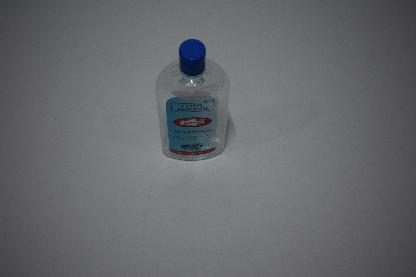Plastic Bottle: (155, 39, 230, 160)
